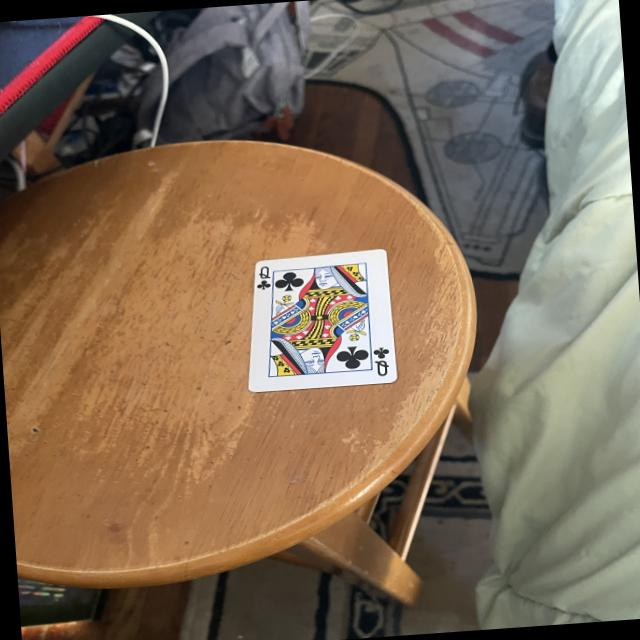Queen of clubs: (232, 243, 402, 402)
